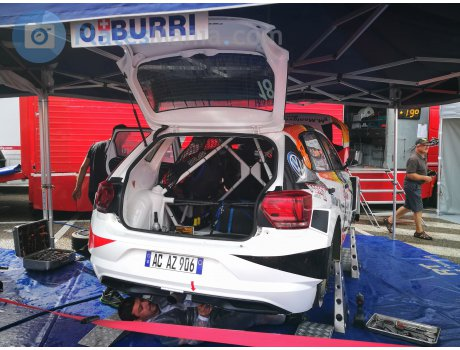License Plates: (151, 250, 193, 268)
